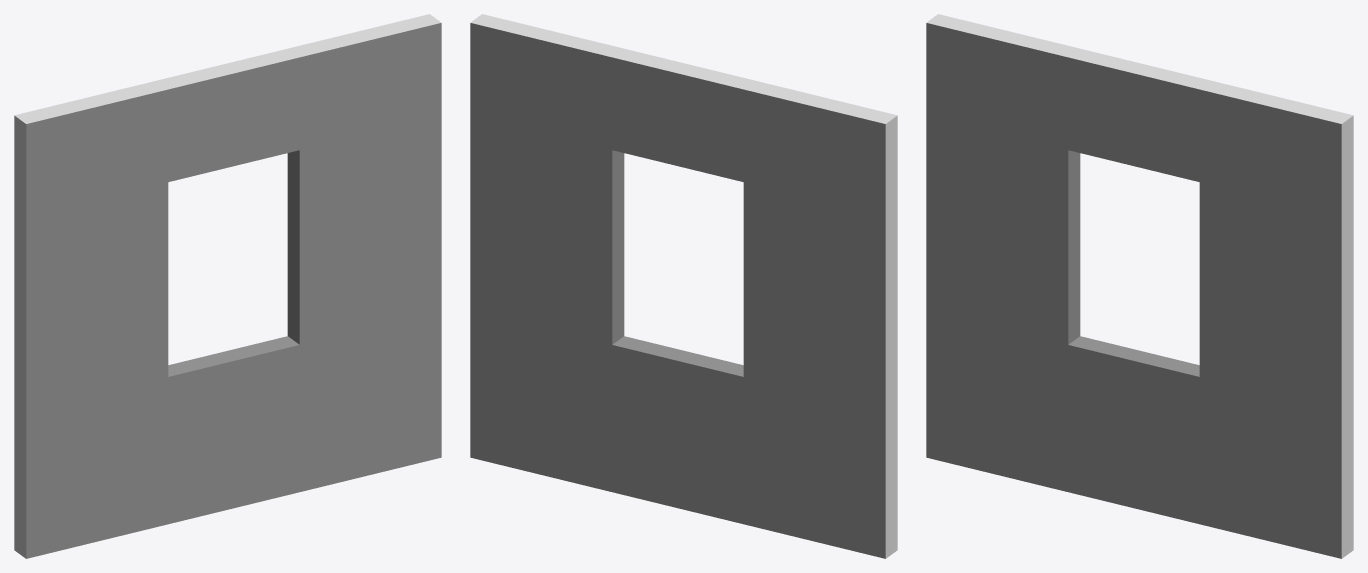
The model's file is wall_084.fbx.
The picture shows the model from 3 angles, left to right: view 1: azimuth 30°, elevation 25°; view 2: azimuth 150°, elevation 25°; view 3: azimuth 330°, elevation 25°; orthographic projection.
Visible parts, largest first — view 1: wall_084; view 2: wall_084; view 3: wall_084.
Part boxes in pixels (x1,y1,x2,y2): wall_084: (14, 14, 441, 558); wall_084: (470, 14, 897, 558); wall_084: (926, 14, 1353, 558).
Size of the model in its own units: 400 by 20 by 400.
